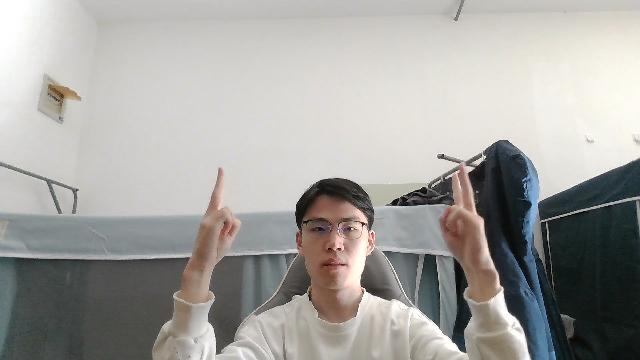yes: (433, 159, 496, 281)
